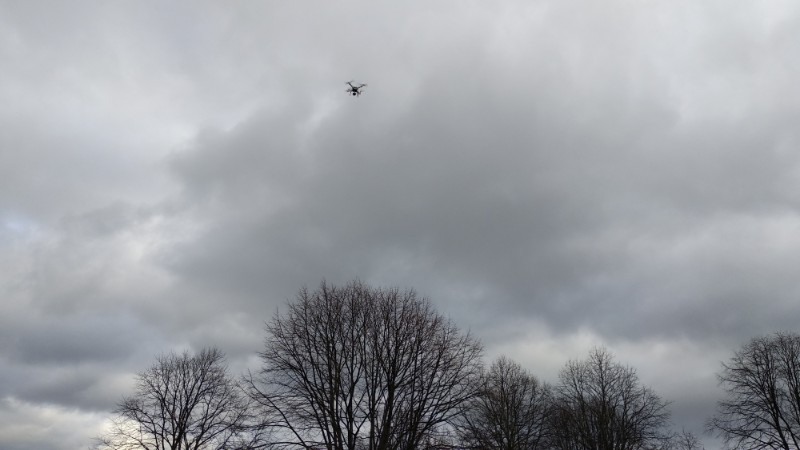drone: (347, 80, 366, 97)
